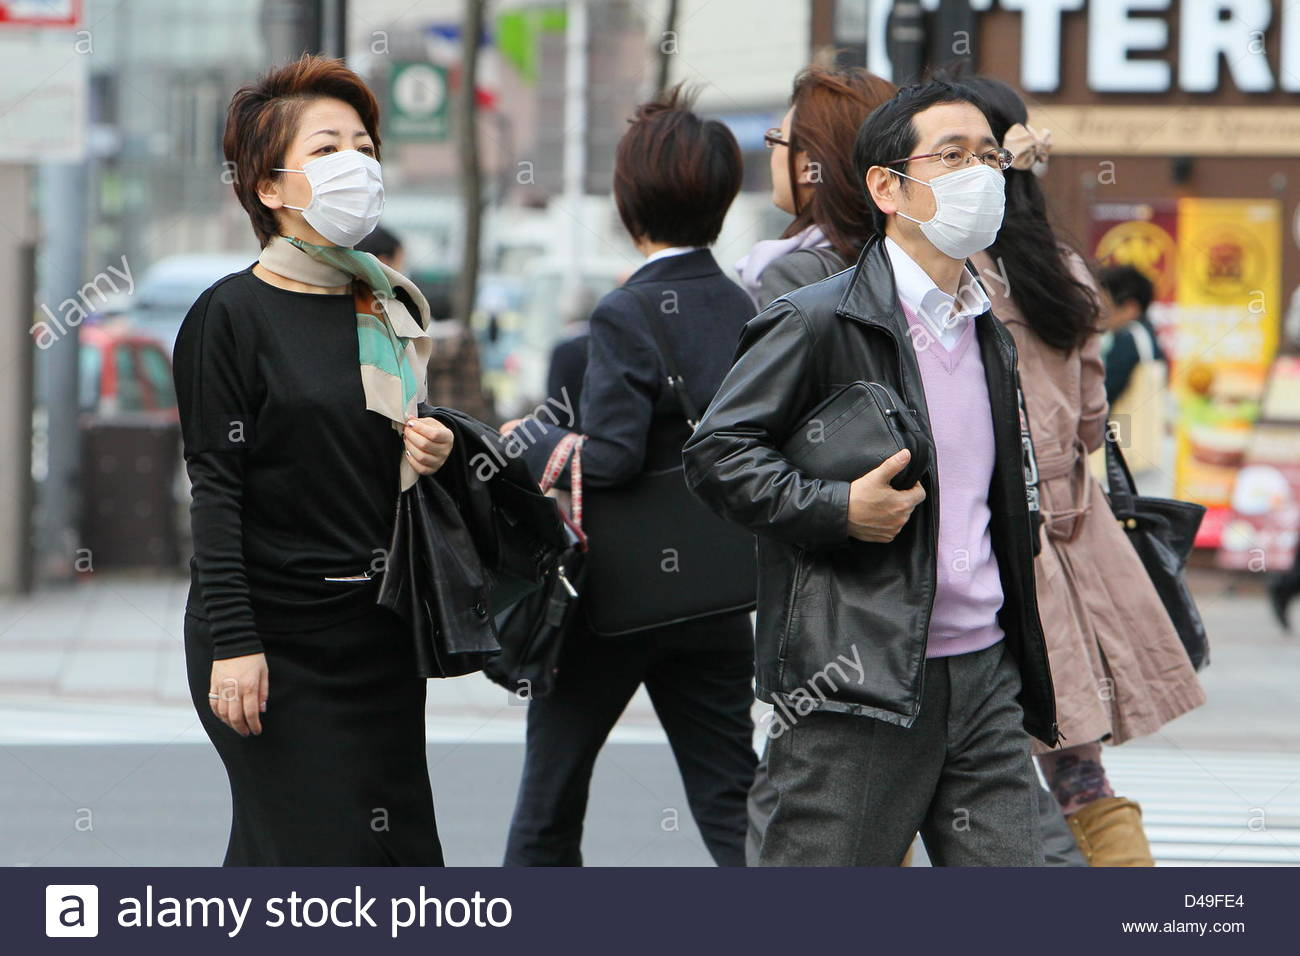mask: (922, 168, 1006, 265), (299, 153, 385, 247)
